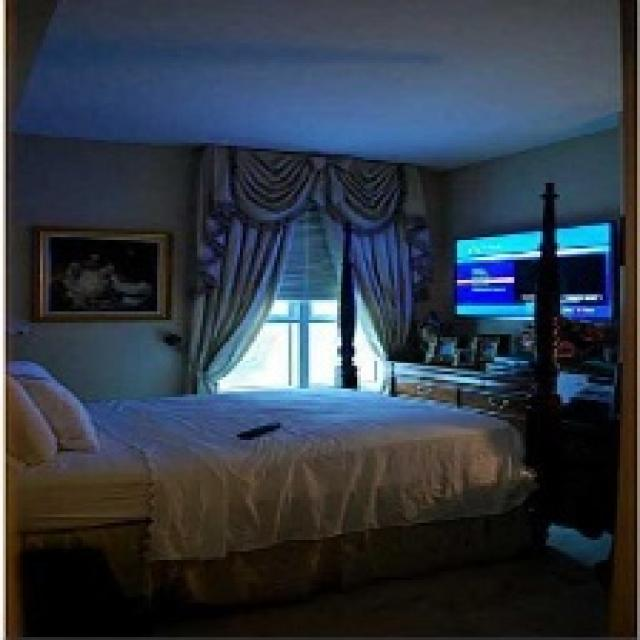Bed: (6, 360, 540, 614)
